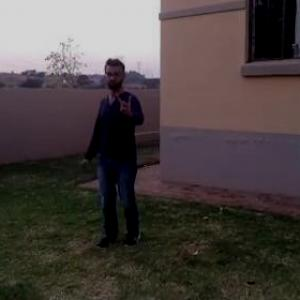takeoff-hand: (112, 87, 137, 118)
